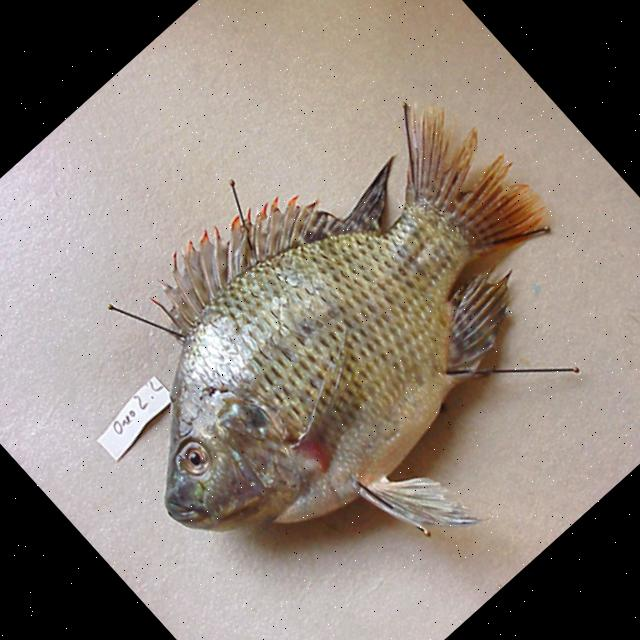ikan: (27, 29, 640, 640)
